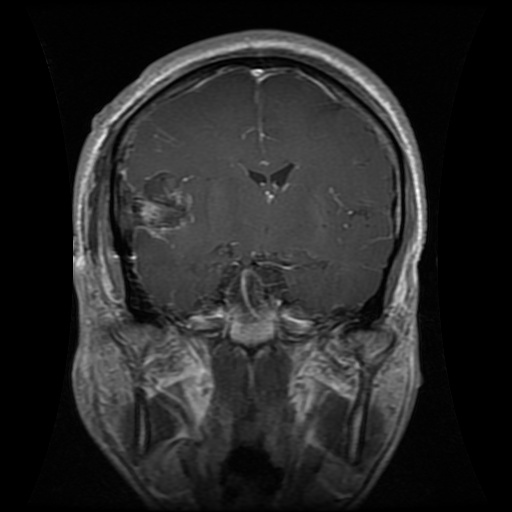glioma: (119, 166, 196, 247)
